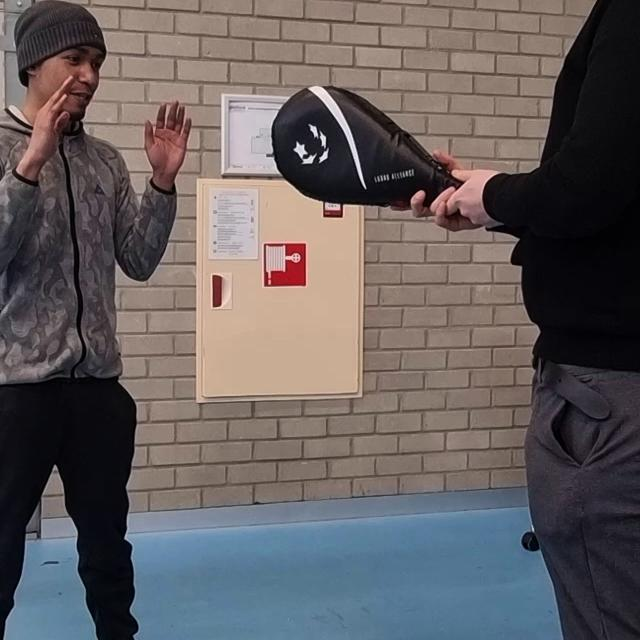paddle: (271, 85, 470, 211)
